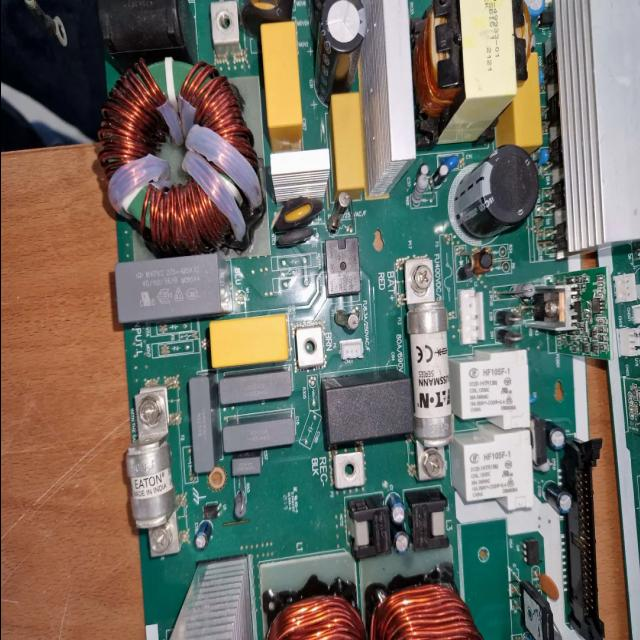A: (94, 57, 264, 252), (368, 576, 491, 640), (262, 582, 368, 640)
B: (404, 258, 450, 488), (124, 390, 178, 556)
C: (452, 144, 536, 238)
